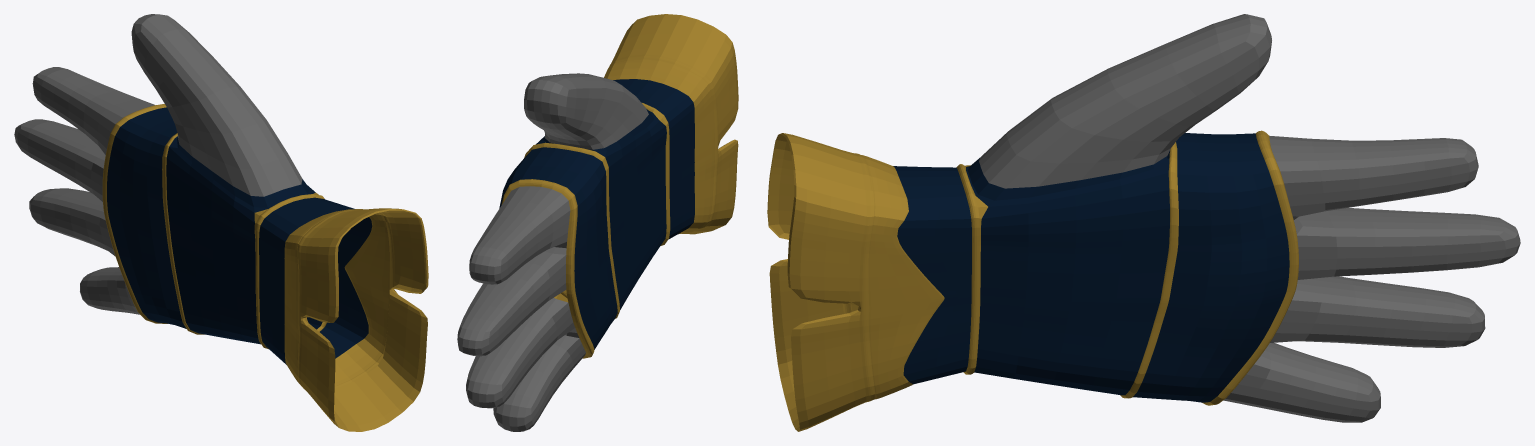
Rendered from RightHand.fbx.
The picture shows the model from 3 angles, left to right: view 1: azimuth 30°, elevation 25°; view 2: azimuth 150°, elevation 25°; view 3: azimuth 270°, elevation 25°; orthographic projection. The views are drawn at different scales.
Visible parts, largest first — view 1: Cube.001; view 2: Cube.001; view 3: Cube.001.
Boxes of the visible parts, x1,y1,x2,y2 form: Cube.001: [14, 14, 428, 431]; Cube.001: [457, 14, 738, 431]; Cube.001: [767, 14, 1520, 431].
Size of the model in its own units: 44.59 by 99.93 by 167.
